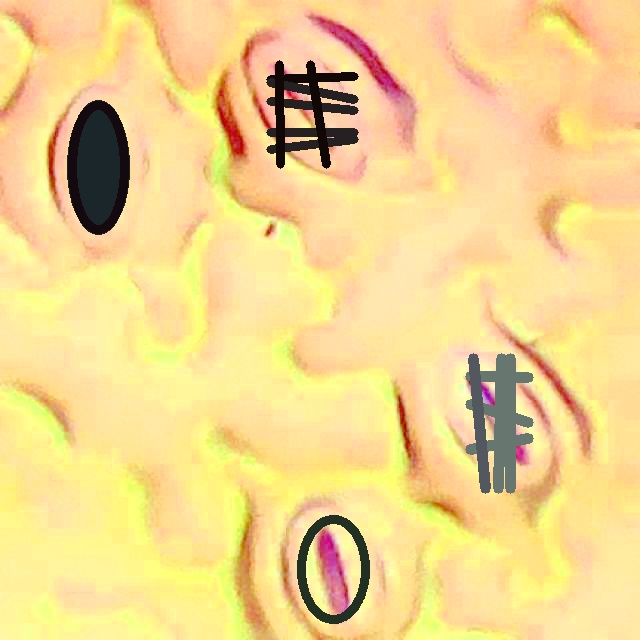open: (266, 60, 358, 168), (465, 354, 533, 492), (66, 100, 129, 234), (296, 514, 370, 624)
